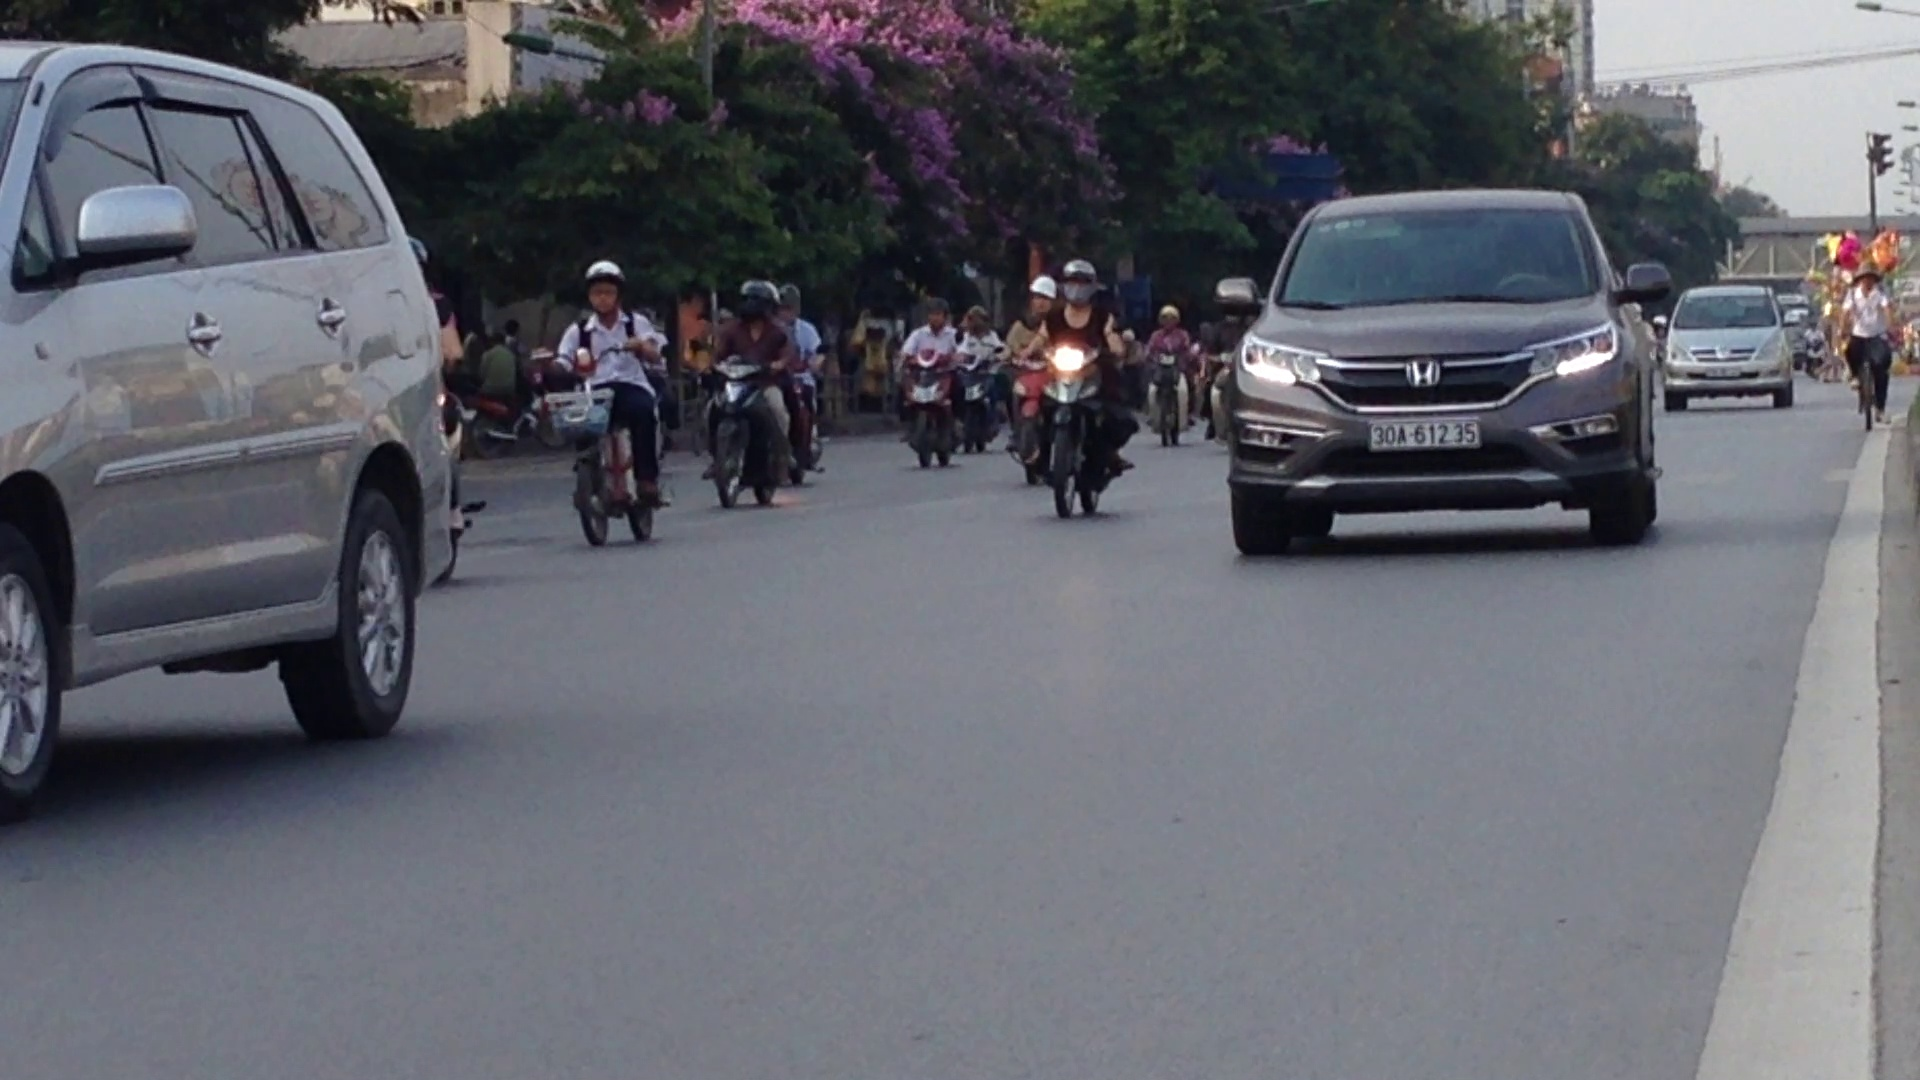person: (1364, 415, 1484, 450)
